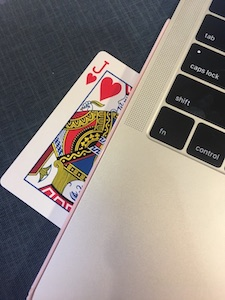JackOfHearts: (3, 48, 144, 230)
